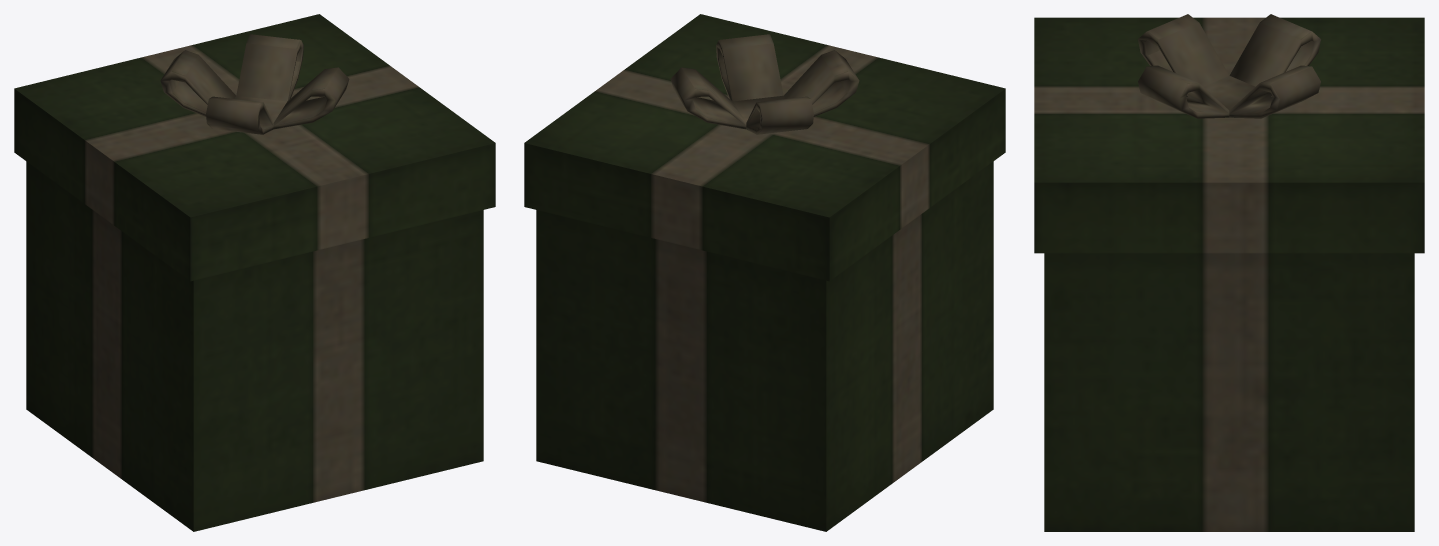
Rendered from gift_box_mx_1_1.obj.
3 views of the same model, side by side, from view 1: azimuth 30°, elevation 25°; view 2: azimuth 150°, elevation 25°; view 3: azimuth 270°, elevation 25° (orthographic). The views are drawn at different scales.
Visible parts, largest first — view 1: gift_box_mx_1_1; view 2: gift_box_mx_1_1; view 3: gift_box_mx_1_1.
Part boxes in pixels (x1,y1,x2,y2): gift_box_mx_1_1: (14, 14, 495, 531); gift_box_mx_1_1: (524, 14, 1005, 531); gift_box_mx_1_1: (1034, 14, 1424, 531).
Size of the model in its own units: 0.2 by 0.229 by 0.2.
